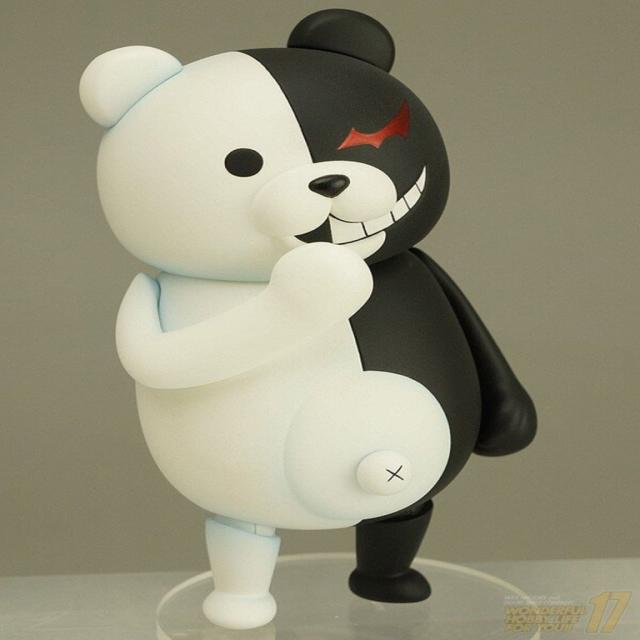Toy: (78, 12, 542, 630)
